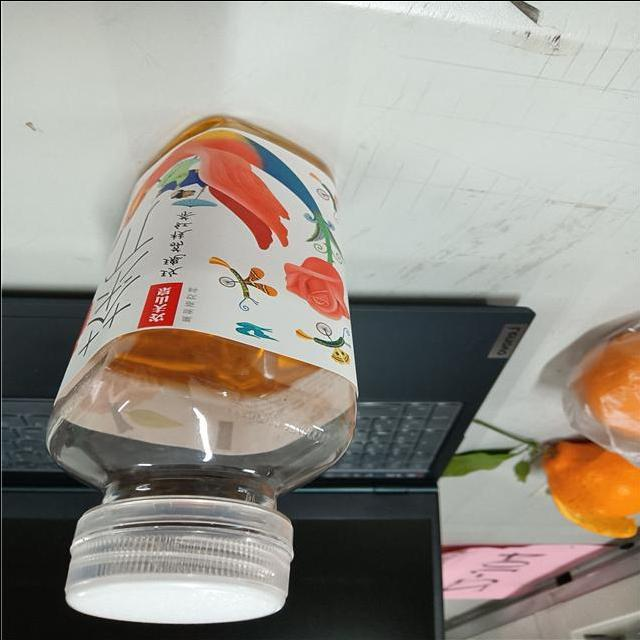orange peel: (533, 438, 639, 542)
